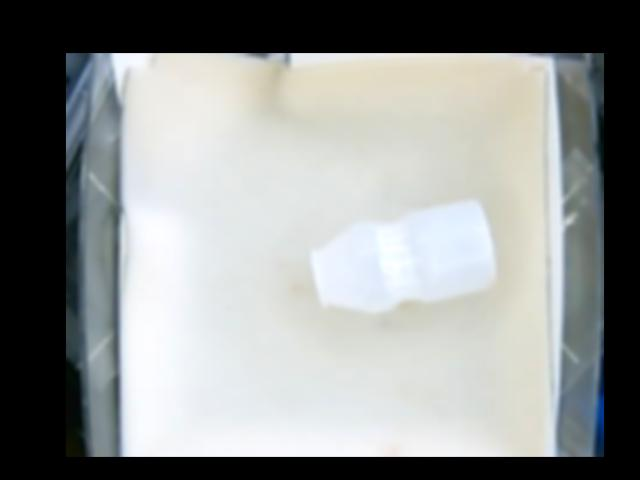Bottle: (313, 196, 493, 314)
